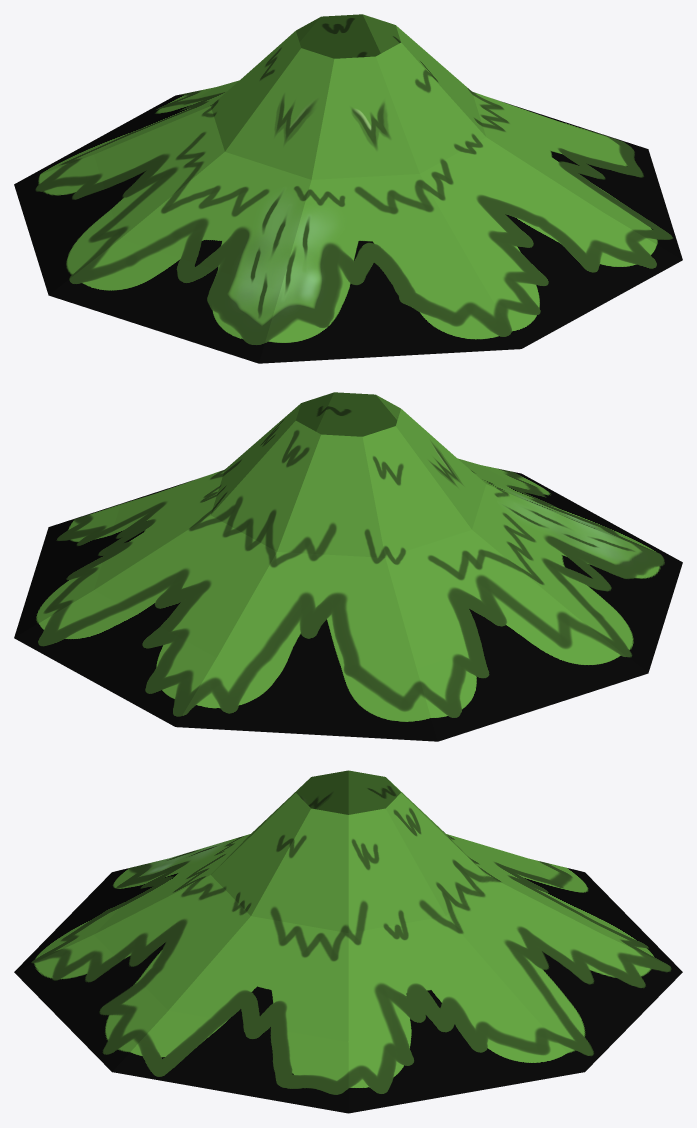
The model's file is TreeTest.fbx.
3 views of the same model, one above another, from view 1: azimuth 30°, elevation 25°; view 2: azimuth 150°, elevation 25°; view 3: azimuth 270°, elevation 25° (orthographic). The views are drawn at different scales.
Visible parts, largest first — view 1: Circle; view 2: Circle; view 3: Circle.
Part boxes in pixels (left/top/right/bottom): Circle: left=14, top=14, right=682, bottom=363; Circle: left=14, top=392, right=682, bottom=741; Circle: left=14, top=770, right=682, bottom=1113.
Bounding box in the file's own units: 400 × 118 × 400.
1 material, 1 textured.
